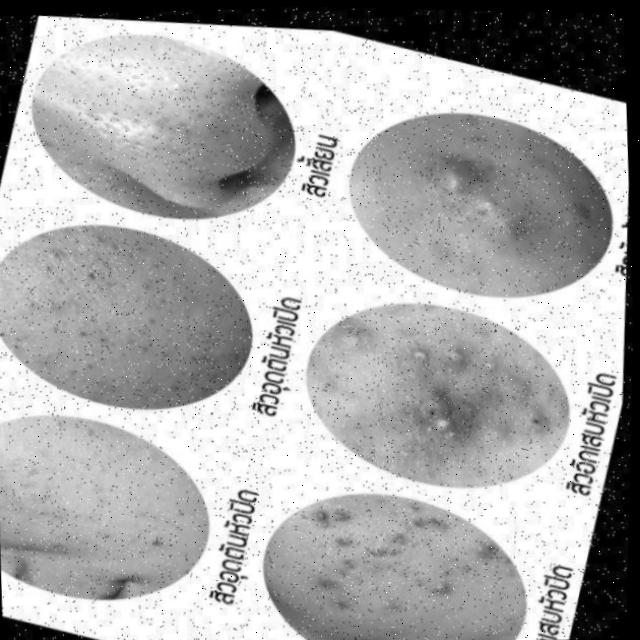Acne: (12, 221, 240, 397), (329, 317, 552, 460), (291, 491, 511, 628), (401, 146, 600, 288), (63, 50, 258, 181), (0, 446, 104, 543)
